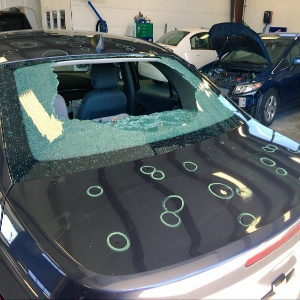rear_windshield_glass: (45, 65, 207, 138)
